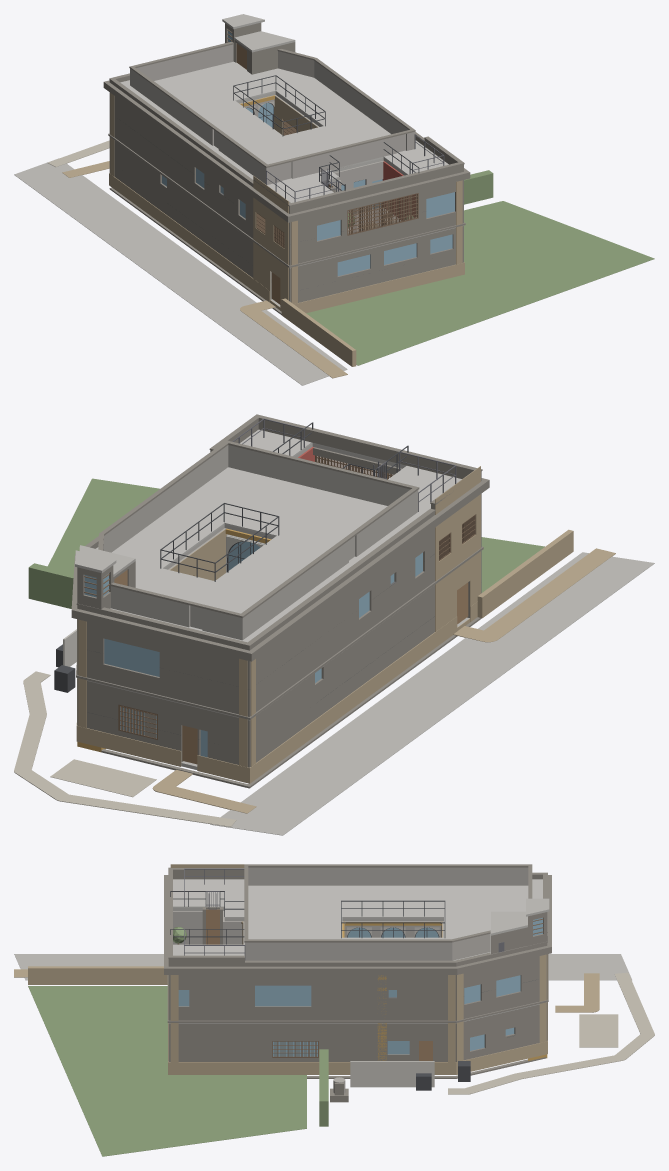
The model's file is taif_house_V8.3.glb.
3 renders of one model, top to bottom at view 1: azimuth 30°, elevation 25°; view 2: azimuth 150°, elevation 25°; view 3: azimuth 270°, elevation 25°, orthographic. The views are drawn at different scales.
Visible parts, largest first — view 1: chr_site_foliage_garden, roof_finish_floor, chr_site_concrete_driveway, roof_attic_wall, gf_outer, ff_outer, chr_base_stone_plinth, roof_cornice, chr_base_stone_feature_wall_00, roof_attic_coping, chr_base_timber_court_screen, chr_site_stone_path_guest (+18 smaller); view 2: roof_finish_floor, chr_site_concrete_driveway, ff_outer, roof_attic_wall, gf_outer, chr_base_stone_plinth, chr_site_foliage_garden, roof_cornice, chr_base_stone_feature_wall_00, chr_site_stone_light_path_workers, roof_attic_coping, chr_base_stone_quoins (+22 smaller); view 3: chr_site_foliage_garden, roof_finish_floor, ff_outer, roof_attic_wall, gf_outer, roof_cornice, chr_site_concrete_driveway, chr_base_stone_plinth, chr_base_stone_quoins, chr_site_stone_light_path_workers, roof_attic_coping, chr_site_stone_garden_wall (+24 smaller).
Part boxes in pixels (x1=…): chr_site_foliage_garden: x1=306, y1=201, x2=654, y2=365; roof_finish_floor: x1=120, y1=61, x2=448, y2=202; chr_site_concrete_driveway: x1=14, y1=158, x2=347, y2=385; roof_attic_wall: x1=130, y1=44, x2=414, y2=184; gf_outer: x1=109, y1=137, x2=463, y2=302; ff_outer: x1=109, y1=92, x2=463, y2=265; chr_base_stone_plinth: x1=109, y1=173, x2=464, y2=313; roof_cornice: x1=103, y1=80, x2=470, y2=222; chr_base_stone_feature_wall_00: x1=253, y1=175, x2=288, y2=310; roof_attic_coping: x1=129, y1=41, x2=415, y2=167; chr_base_timber_court_screen: x1=347, y1=193, x2=418, y2=235; chr_site_stone_path_guest: x1=240, y1=300, x2=347, y2=378; roof_finish_floor: x1=96, y1=429, x2=461, y2=642; chr_site_concrete_driveway: x1=210, y1=552, x2=654, y2=835; ff_outer: x1=77, y1=493, x2=481, y2=716; roof_attic_wall: x1=103, y1=445, x2=418, y2=640; gf_outer: x1=77, y1=551, x2=481, y2=767; chr_base_stone_plinth: x1=76, y1=601, x2=477, y2=783; chr_site_foliage_garden: x1=47, y1=478, x2=544, y2=592; roof_cornice: x1=71, y1=478, x2=489, y2=661; chr_base_stone_feature_wall_00: x1=435, y1=466, x2=480, y2=631; chr_site_stone_light_path_workers: x1=14, y1=671, x2=236, y2=826; roof_attic_coping: x1=98, y1=440, x2=419, y2=618; chr_base_stone_quoins: x1=77, y1=496, x2=480, y2=767; chr_site_foliage_garden: x1=28, y1=986, x2=306, y2=1156; roof_finish_floor: x1=173, y1=879, x2=542, y2=960; ff_outer: x1=168, y1=954, x2=547, y2=1020; roof_attic_wall: x1=245, y1=867, x2=528, y2=960; gf_outer: x1=168, y1=1003, x2=547, y2=1061; roof_cornice: x1=164, y1=875, x2=551, y2=974; chr_site_concrete_driveway: x1=14, y1=954, x2=631, y2=980; chr_base_stone_plinth: x1=168, y1=1023, x2=547, y2=1074; chr_base_stone_quoins: x1=168, y1=954, x2=547, y2=1062; chr_site_stone_light_path_workers: x1=448, y1=972, x2=654, y2=1094; roof_attic_coping: x1=244, y1=864, x2=532, y2=942; chr_site_stone_garden_wall: x1=28, y1=966, x2=167, y2=984.
Bounding box in the file's own units: 30.69 × 10.6 × 41.05.
